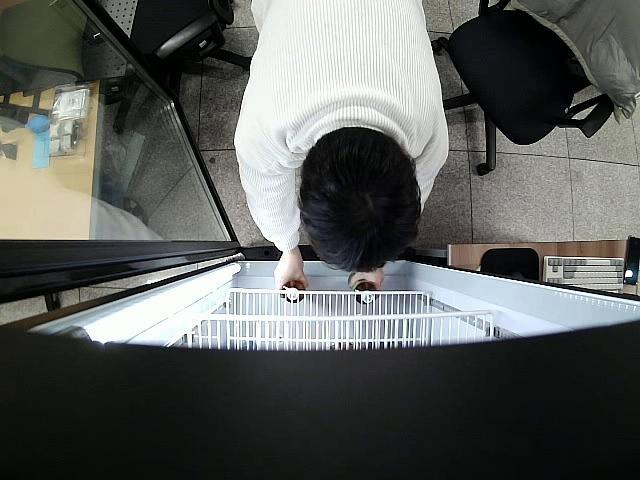19_17cha: (346, 272, 378, 305), (280, 280, 306, 303)
